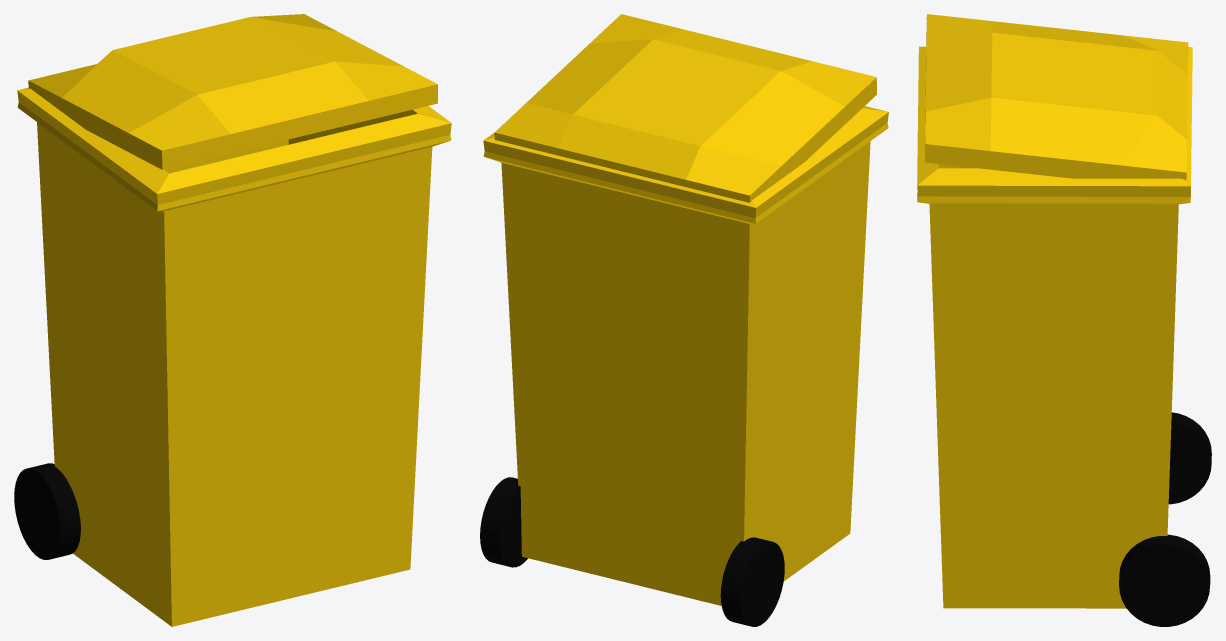
Rendered from WheelyBinYellow.fbx.
3 renders of one model, left to right at view 1: azimuth 30°, elevation 25°; view 2: azimuth 150°, elevation 25°; view 3: azimuth 270°, elevation 25°, orthographic. The views are drawn at different scales.
Parts seen in each view (by area): view 1: WheelyBinYellow, WheelyBinLid.001, WheelyBinWheels.001; view 2: WheelyBinYellow, WheelyBinLid.001, WheelyBinWheels.001; view 3: WheelyBinYellow, WheelyBinLid.001, WheelyBinWheels.001.
Boxes of the visible parts, bbox=[...] form: WheelyBinYellow: bbox=[17, 87, 451, 626]; WheelyBinLid.001: bbox=[28, 14, 437, 169]; WheelyBinWheels.001: bbox=[14, 463, 80, 559]; WheelyBinYellow: bbox=[483, 106, 888, 605]; WheelyBinLid.001: bbox=[494, 14, 876, 202]; WheelyBinWheels.001: bbox=[480, 477, 784, 626]; WheelyBinYellow: bbox=[917, 46, 1192, 608]; WheelyBinLid.001: bbox=[924, 14, 1188, 179]; WheelyBinWheels.001: bbox=[1119, 412, 1211, 626].
Bounding box in the file's own units: 56.72 × 50.64 × 93.8.
